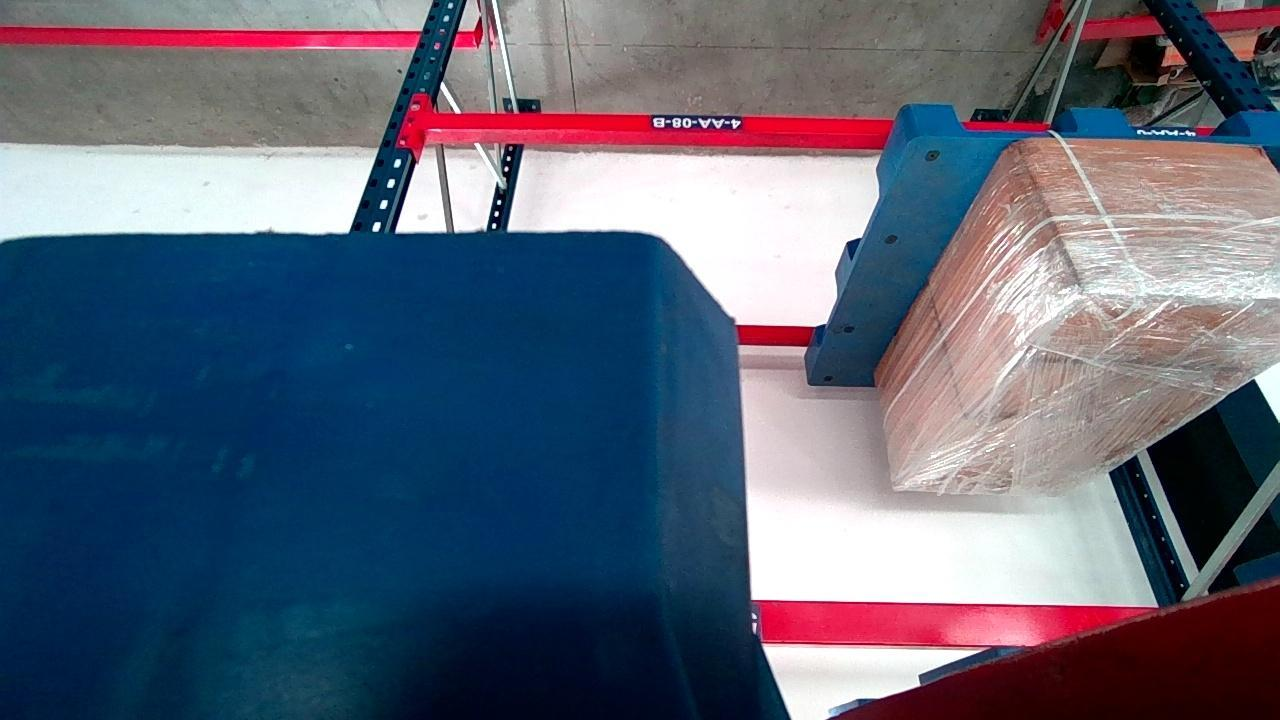h_rack: (132, 69, 522, 116), (386, 571, 857, 603)
small_pallet: (0, 570, 378, 616)
